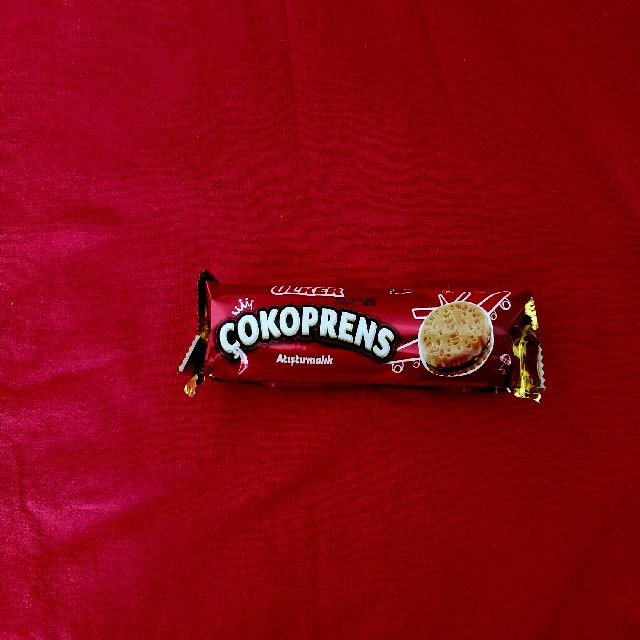ulker_cokoprens_biskuvi: (178, 272, 543, 400)
